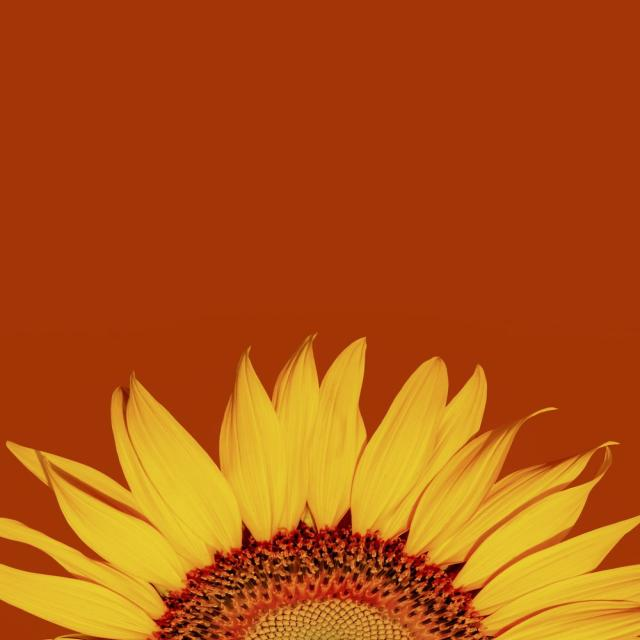sunflower: (1, 331, 638, 639)
